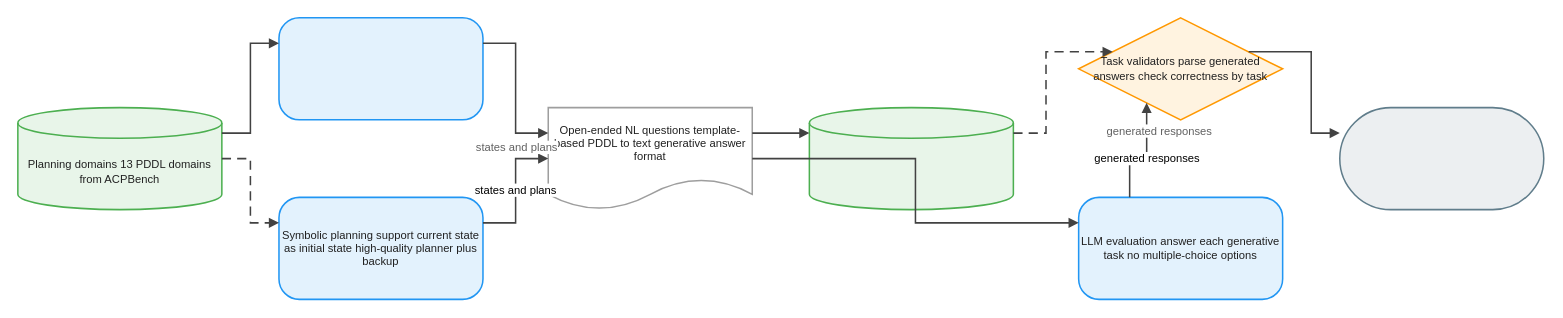
Image size: 1563x318. Some labels were removed from this diagram. Here are the shapes that lost their labels. From the top down, the centre of each, then its label:
At pixel 380 68: "Atomic planning tasks 7 ACP tasks plus next action".
At pixel 911 158: "Stored symbolic answers applicable actions, effects plans, facts, landmarks".
At pixel 1441 158: "ACPBench Hard results task-wise accuracy planning-reasoning diagnosis".
